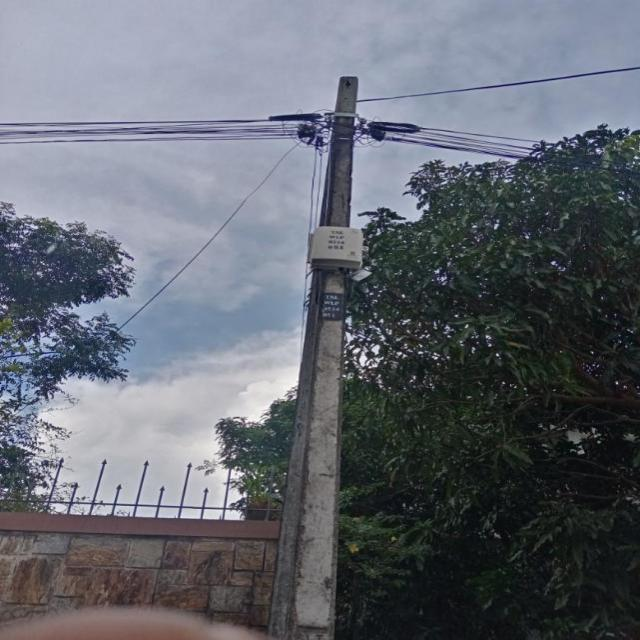light_pole: (256, 61, 377, 640)
